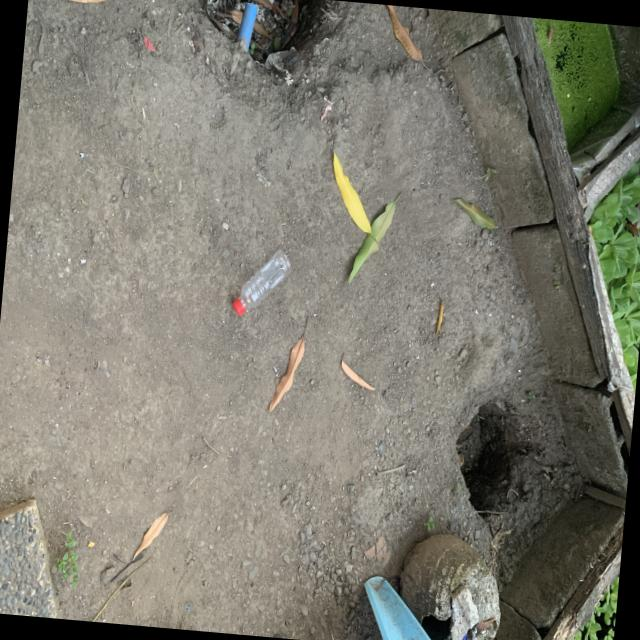Bottle: (231, 250, 289, 316)
